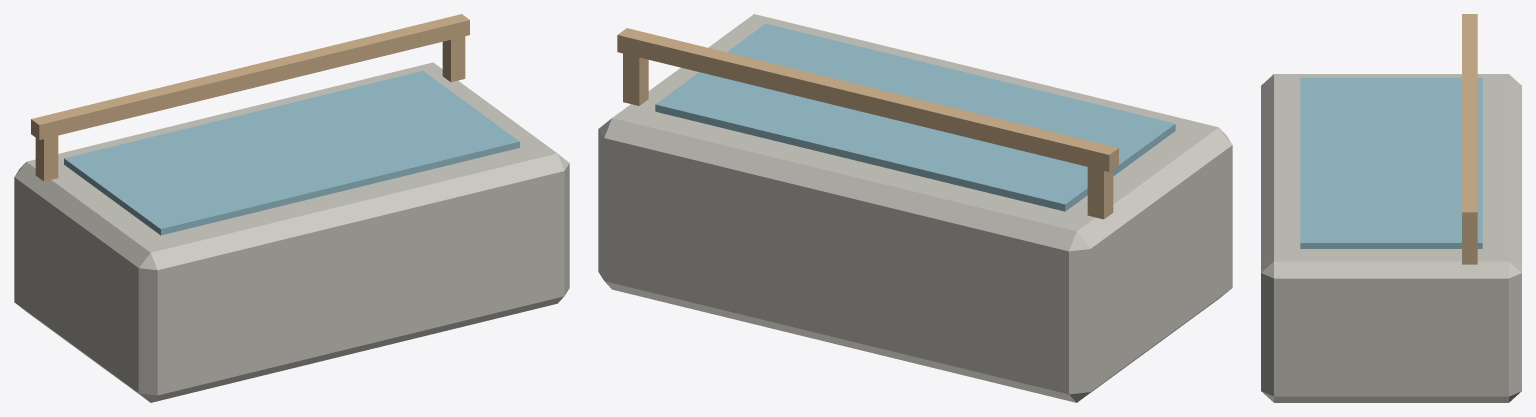
The model's file is feudal-japan-castle-town-purification-basin-d8f60579__26380.glb.
The picture shows the model from 3 angles, left to right: view 1: azimuth 30°, elevation 25°; view 2: azimuth 150°, elevation 25°; view 3: azimuth 270°, elevation 25°; orthographic projection. The views are drawn at different scales.
Visible parts, largest first — view 1: purification-basin; view 2: purification-basin; view 3: purification-basin.
Boxes of the visible parts, <box> form: purification-basin: <box>14,14,569,402</box>; purification-basin: <box>598,14,1232,402</box>; purification-basin: <box>1261,14,1521,402</box>.
Size of the model in its own units: 1.8 by 0.83 by 1.
